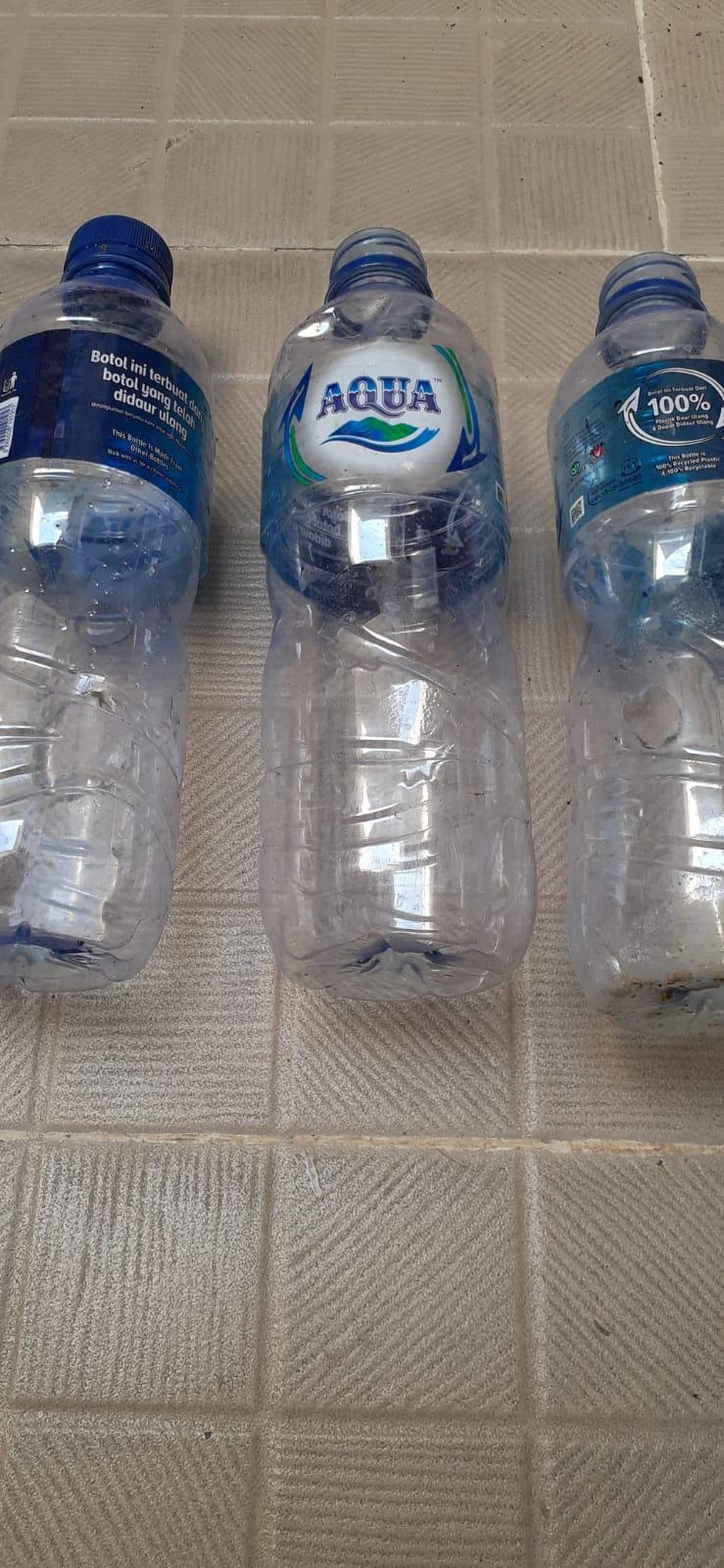Plastik: (264, 211, 530, 1008), (0, 215, 216, 1002), (548, 247, 724, 1042)
